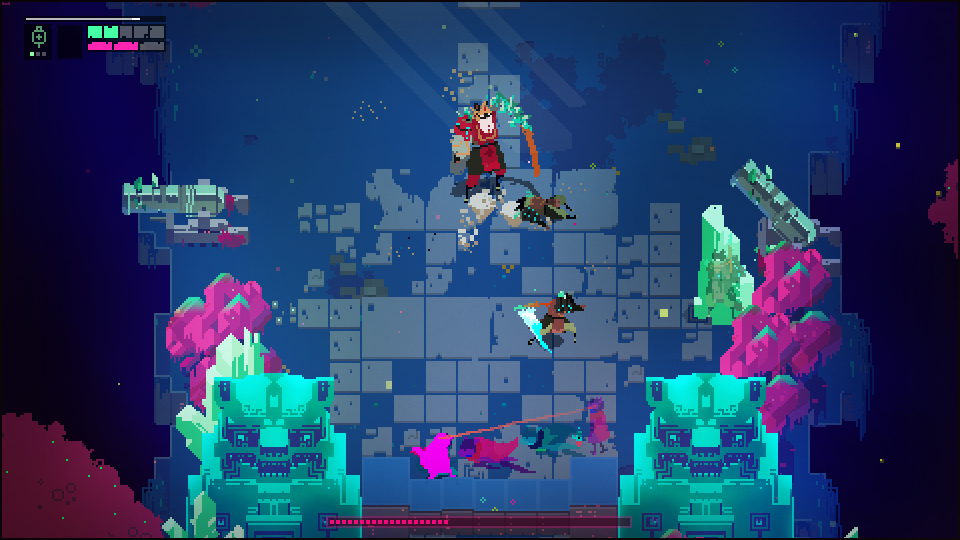hanged_man: (448, 93, 541, 204)
player: (410, 432, 455, 480)
